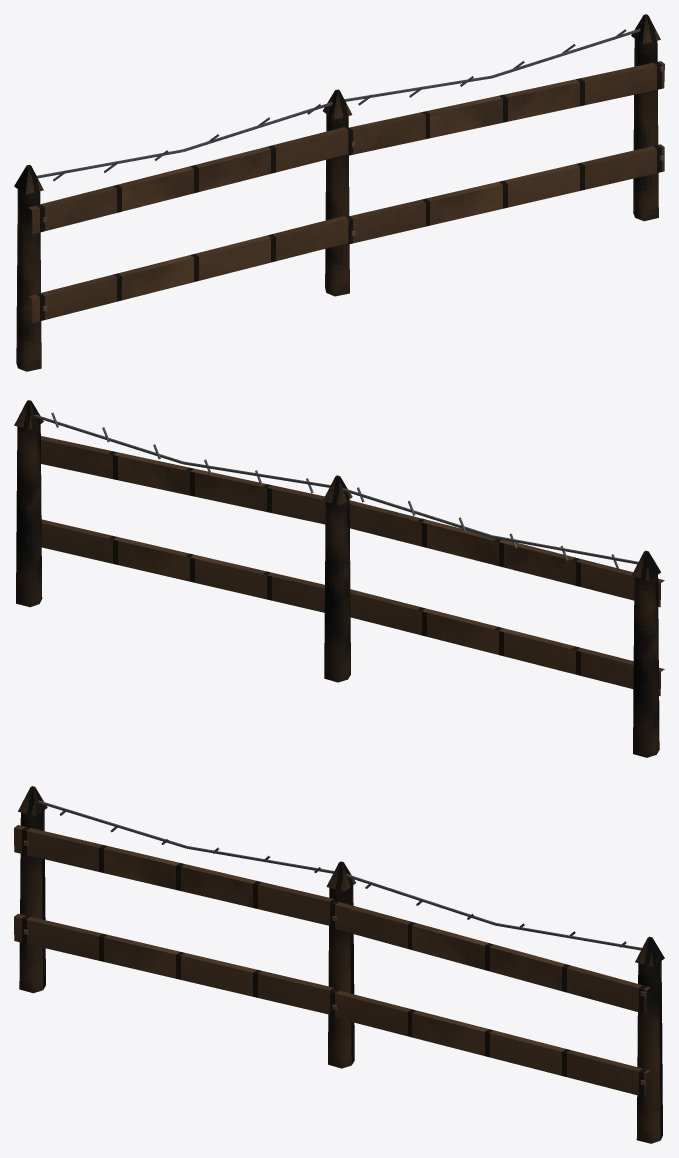
File: fence_wood.glb
The picture shows the model from 3 angles, top to bottom: view 1: azimuth 30°, elevation 25°; view 2: azimuth 150°, elevation 25°; view 3: azimuth 330°, elevation 25°; orthographic projection.
Parts seen in each view (by area): view 1: fence-col, detail; view 2: fence-col, detail; view 3: fence-col, detail.
Boxes of the visible parts, x1=… form: fence-col: x1=14, y1=14, x2=664, y2=371; detail: x1=37, y1=28, x2=664, y2=311; fence-col: x1=14, y1=400, x2=664, y2=757; detail: x1=34, y1=412, x2=638, y2=569; fence-col: x1=14, y1=786, x2=664, y2=1143; detail: x1=23, y1=800, x2=645, y2=1085.
Size of what is drawn, in the model's own units: 4.14 by 1.24 by 0.2012.
Materials: 4 (4 with a texture image).
